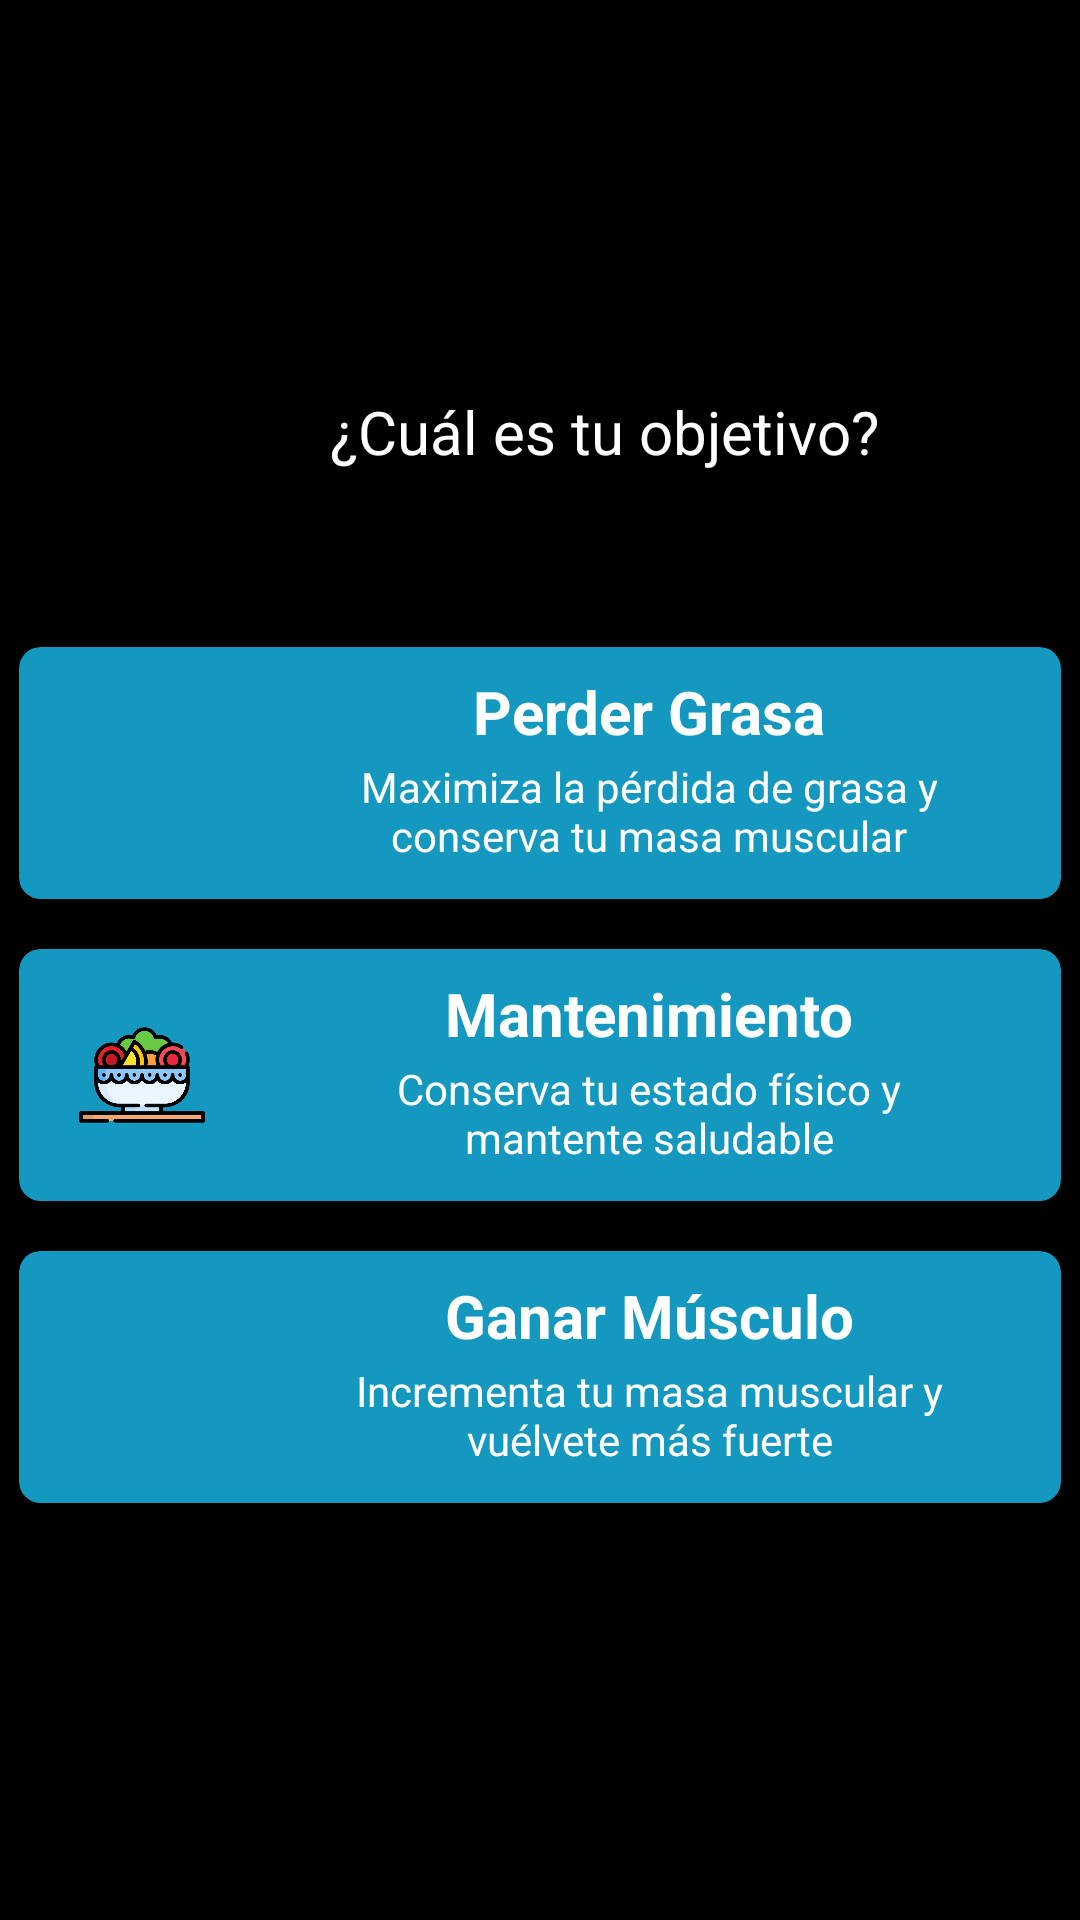

Named icons in this screenshot (1080 x 1920) and their bounding boxes, (x1, y1, x2, y2):
alimentacion saludable: (79, 1027, 205, 1123)
